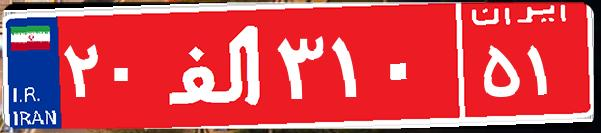0: (385, 28, 445, 110), (110, 28, 158, 105)
1: (330, 28, 385, 110), (525, 38, 570, 115)
2: (57, 26, 110, 107)
3: (273, 28, 330, 110)
5: (475, 38, 525, 113)
الف: (158, 15, 273, 115)
